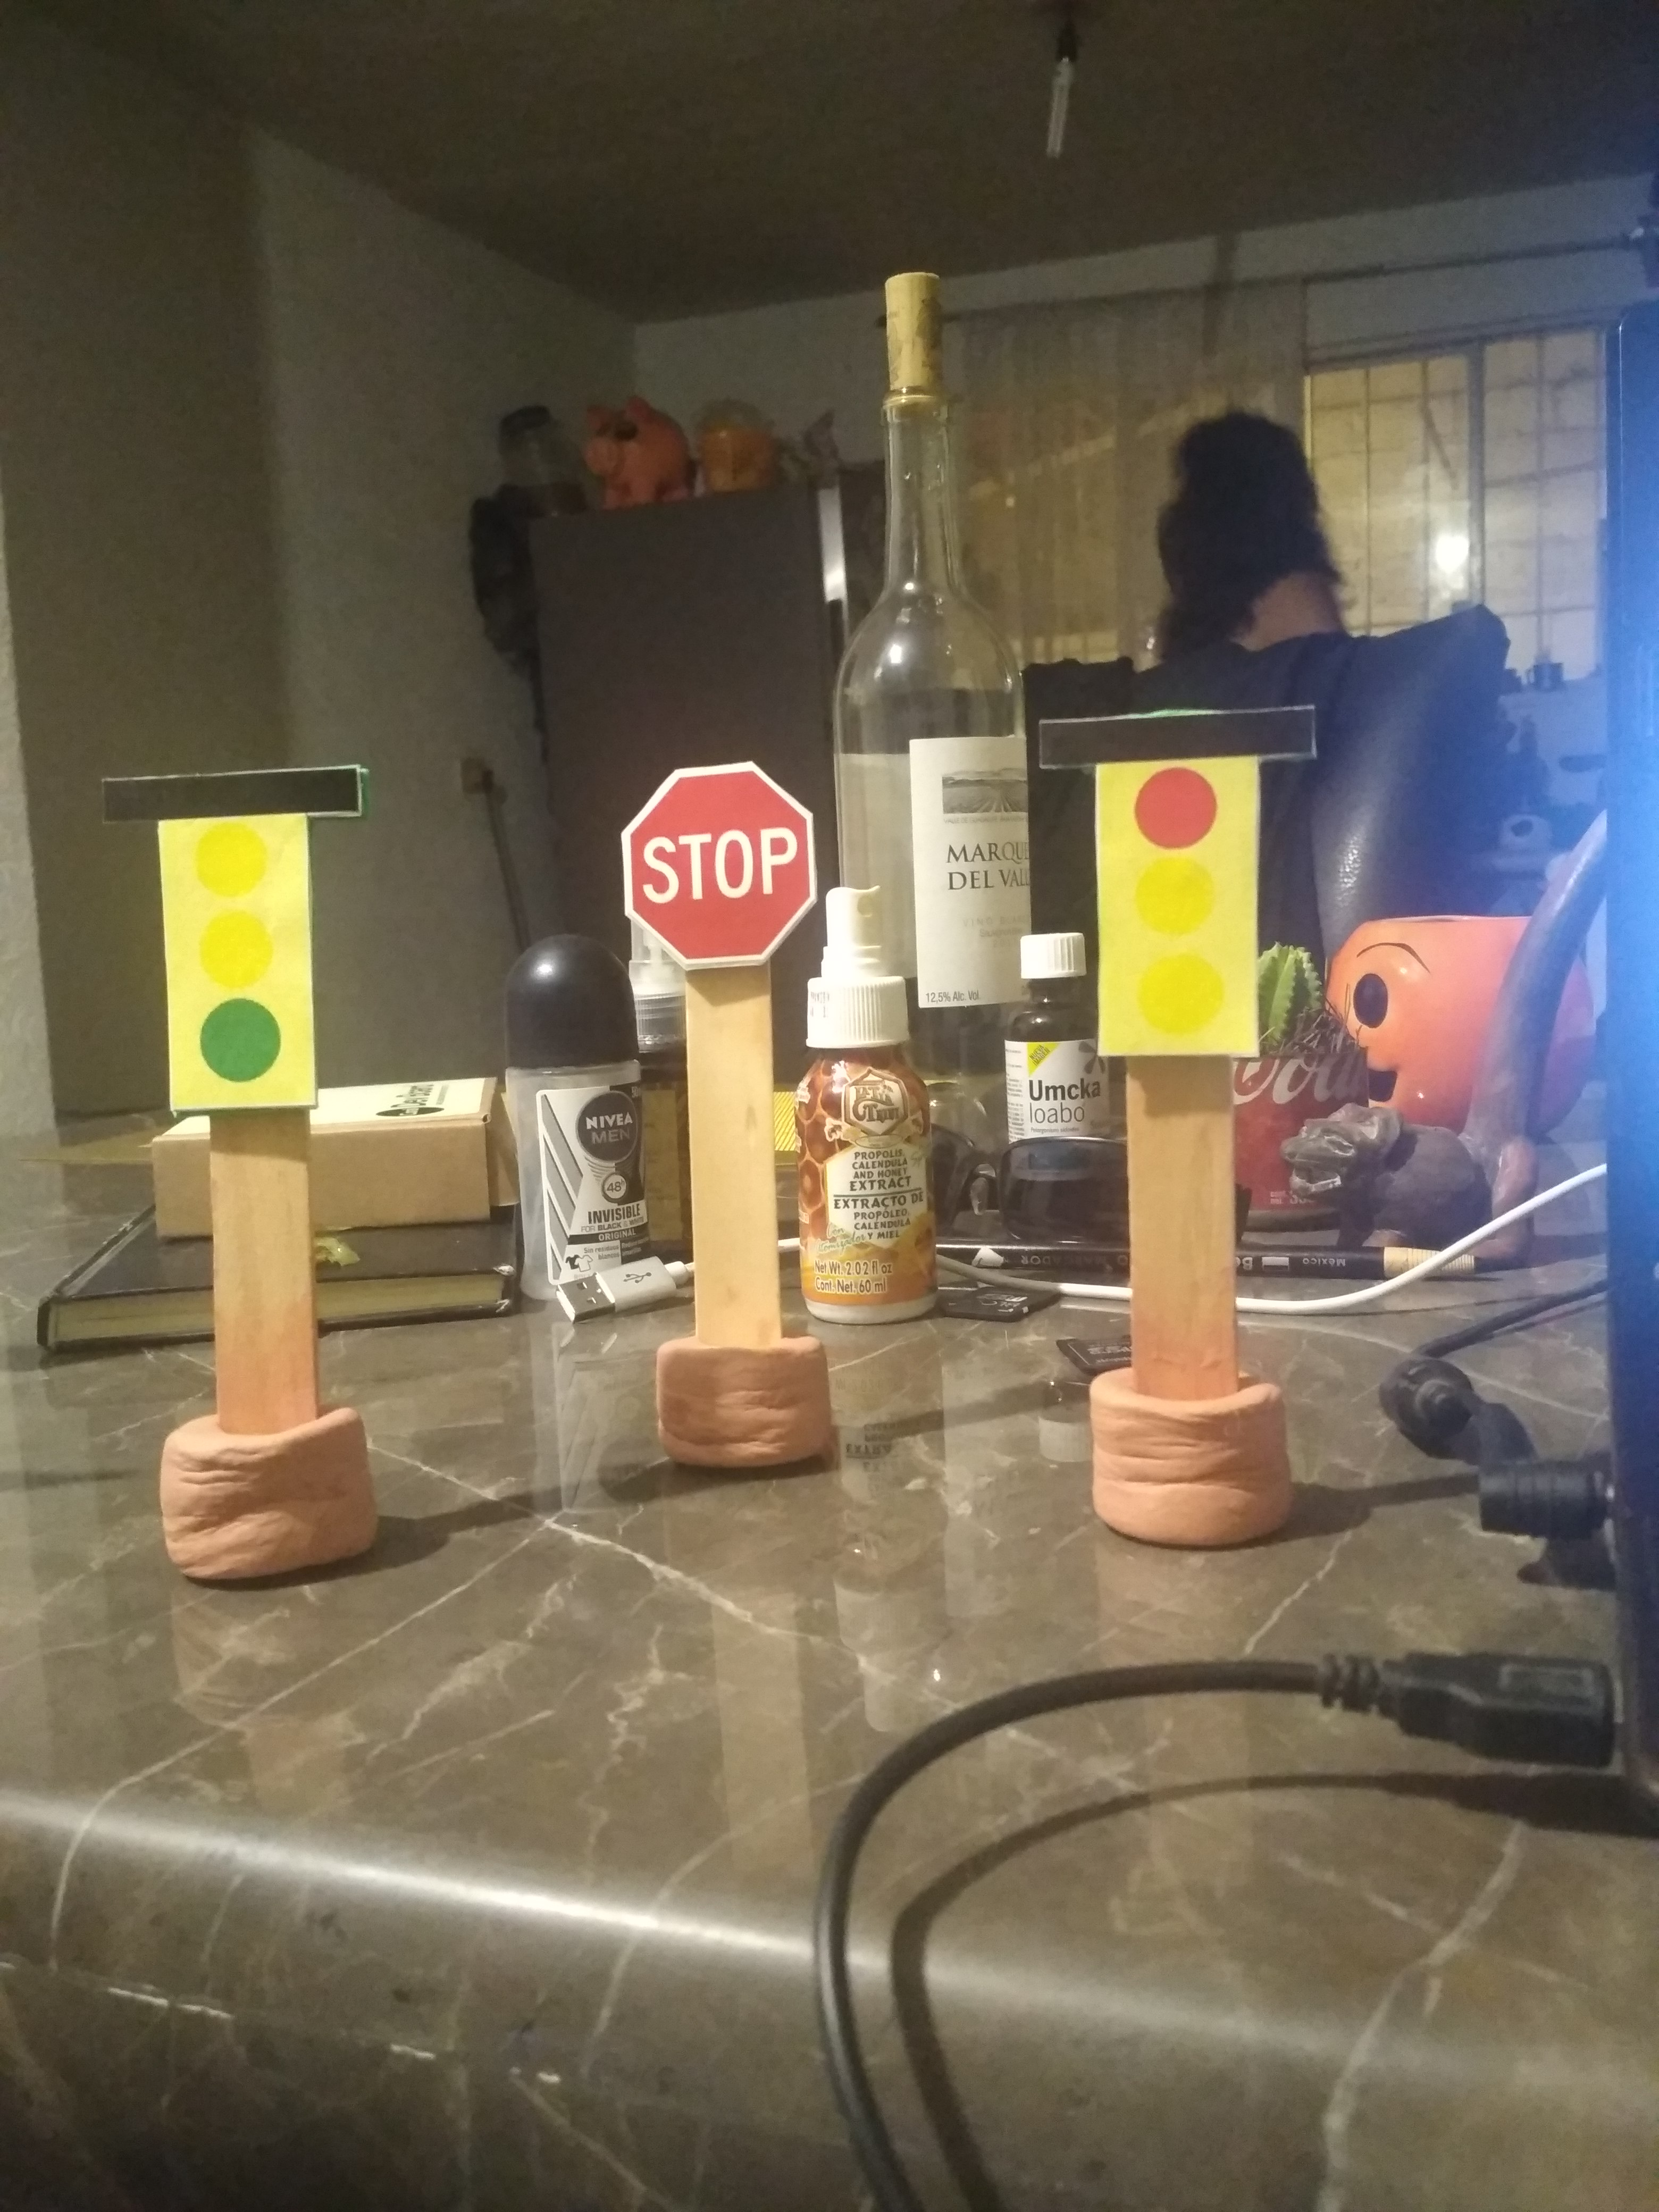Green: (94, 752, 375, 1118)
Red: (1032, 702, 1324, 1061)
Stop: (613, 759, 819, 972)
